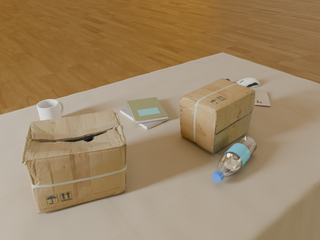book: (120, 107, 169, 130), (127, 97, 168, 124)
bottle: (212, 136, 257, 182)
box: (22, 111, 127, 213), (180, 79, 255, 154)
cup: (37, 99, 64, 121)
mouse: (237, 78, 260, 88)
phone: (254, 91, 270, 107)
